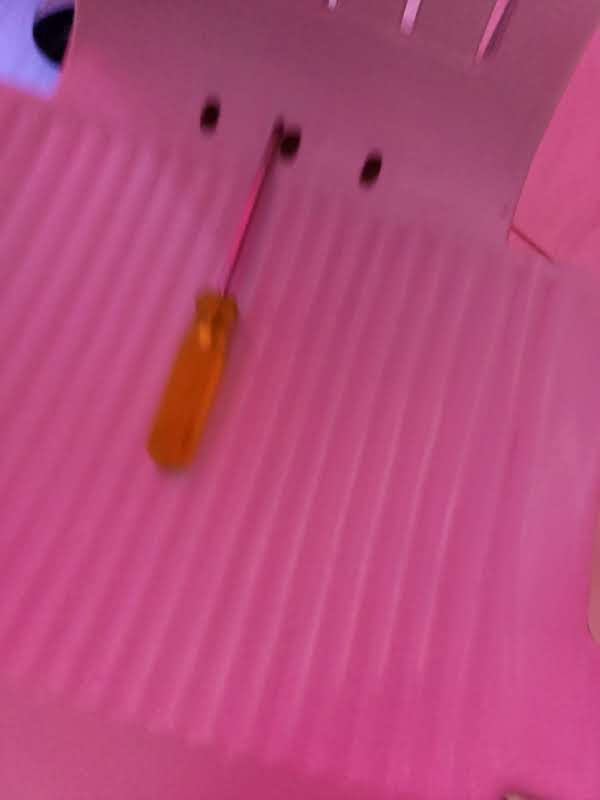Destornillador: (148, 122, 283, 466)
